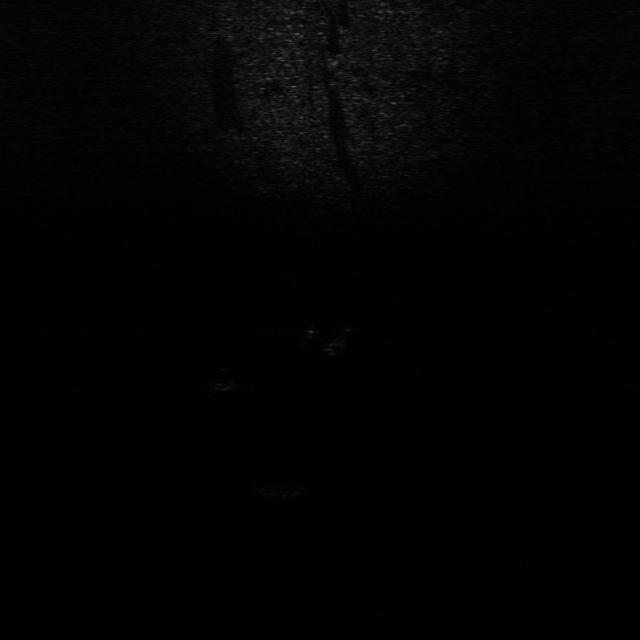ball: (204, 367, 240, 391)
circle cage: (256, 472, 306, 500)
human body: (299, 317, 363, 357)
